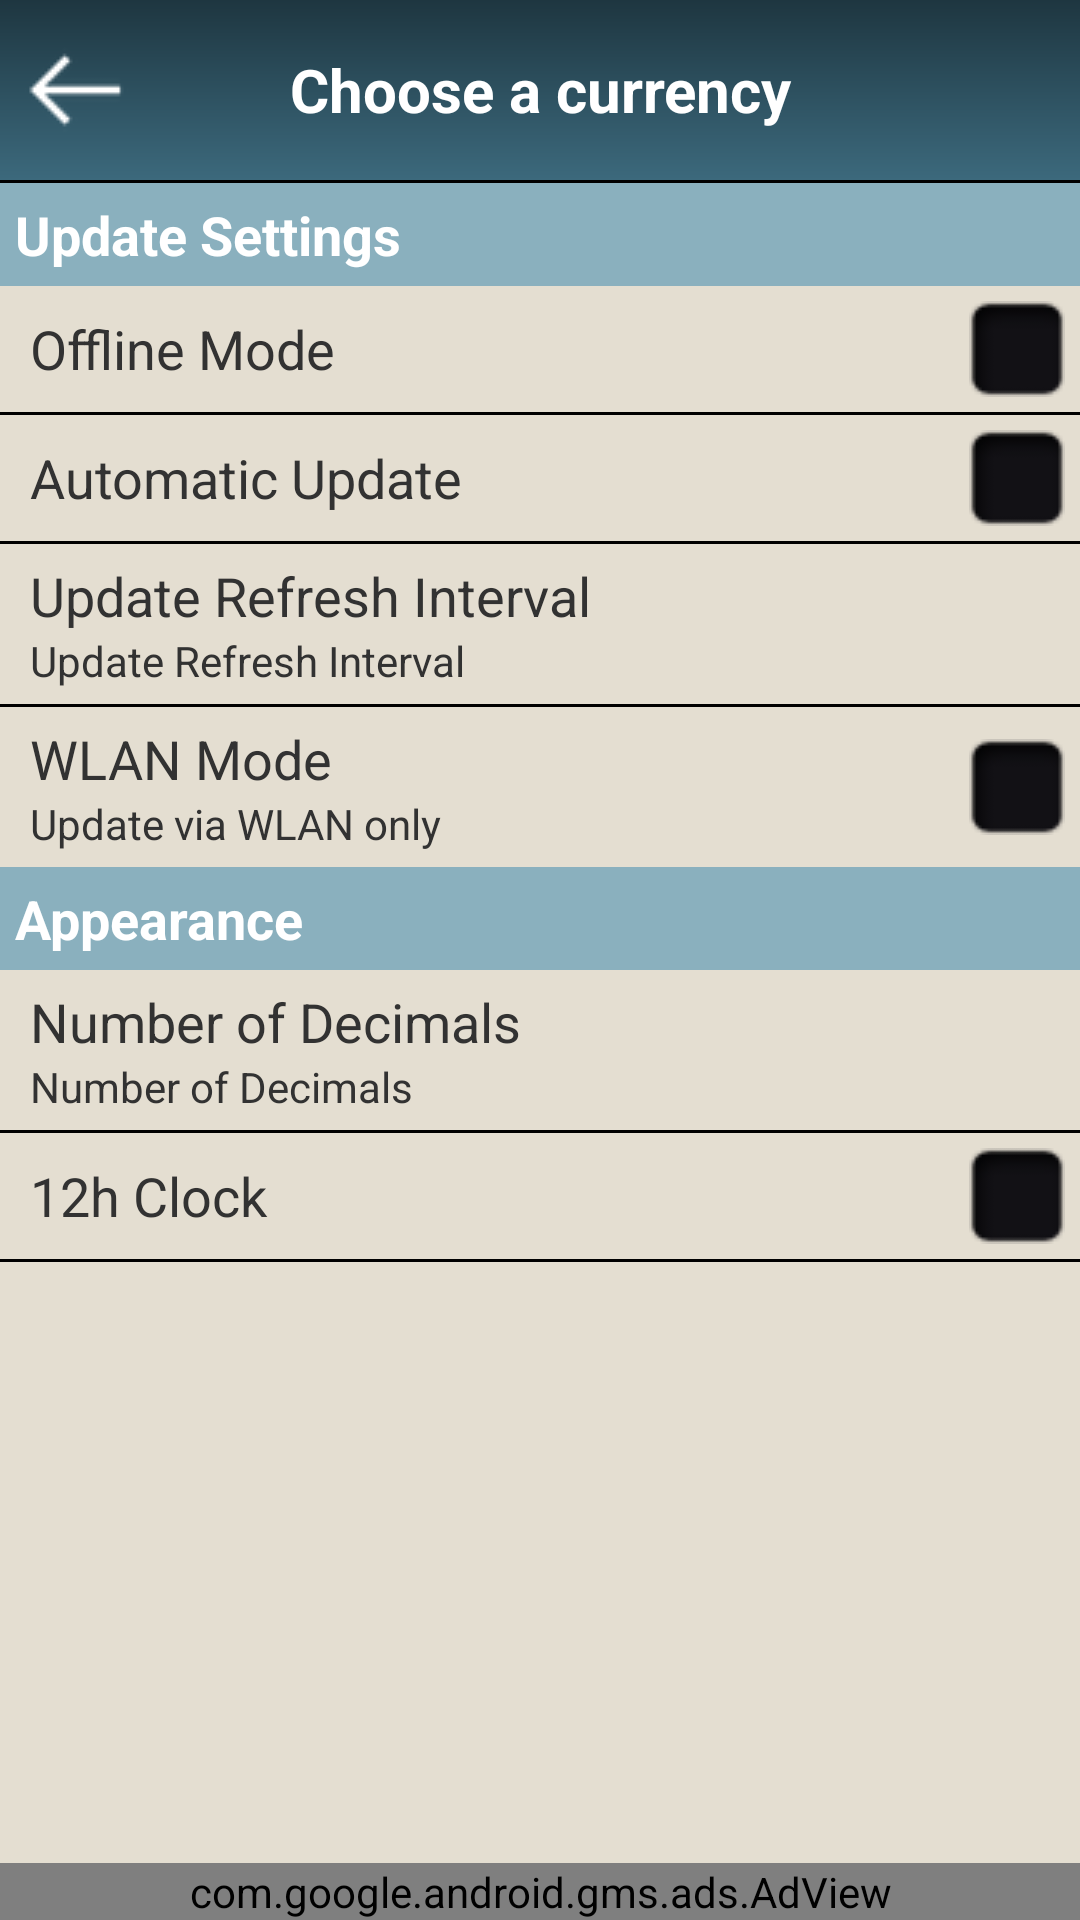

Screen size 1080px x 1920px. Icon name, then its center in pixels as [x,y]:
back: [75,90]
